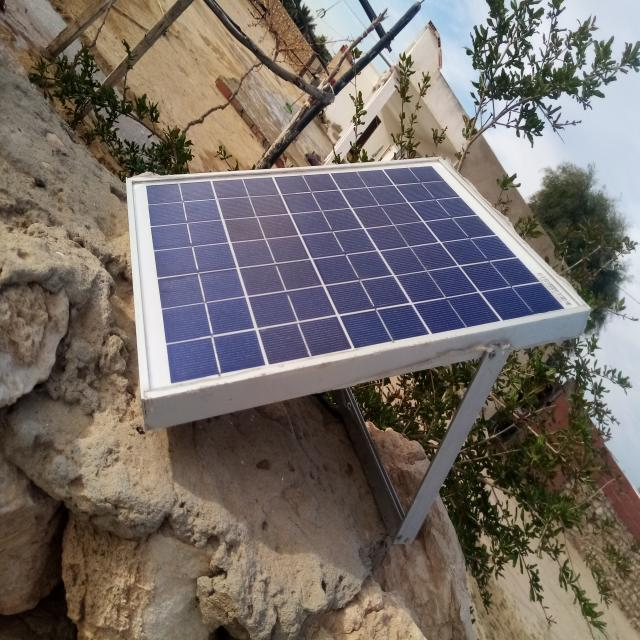Normal Solar Panel: (134, 162, 585, 402)
